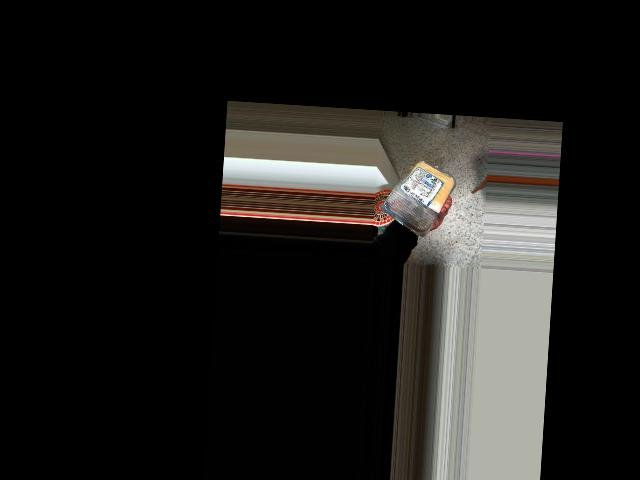cheese: (381, 153, 449, 233)
